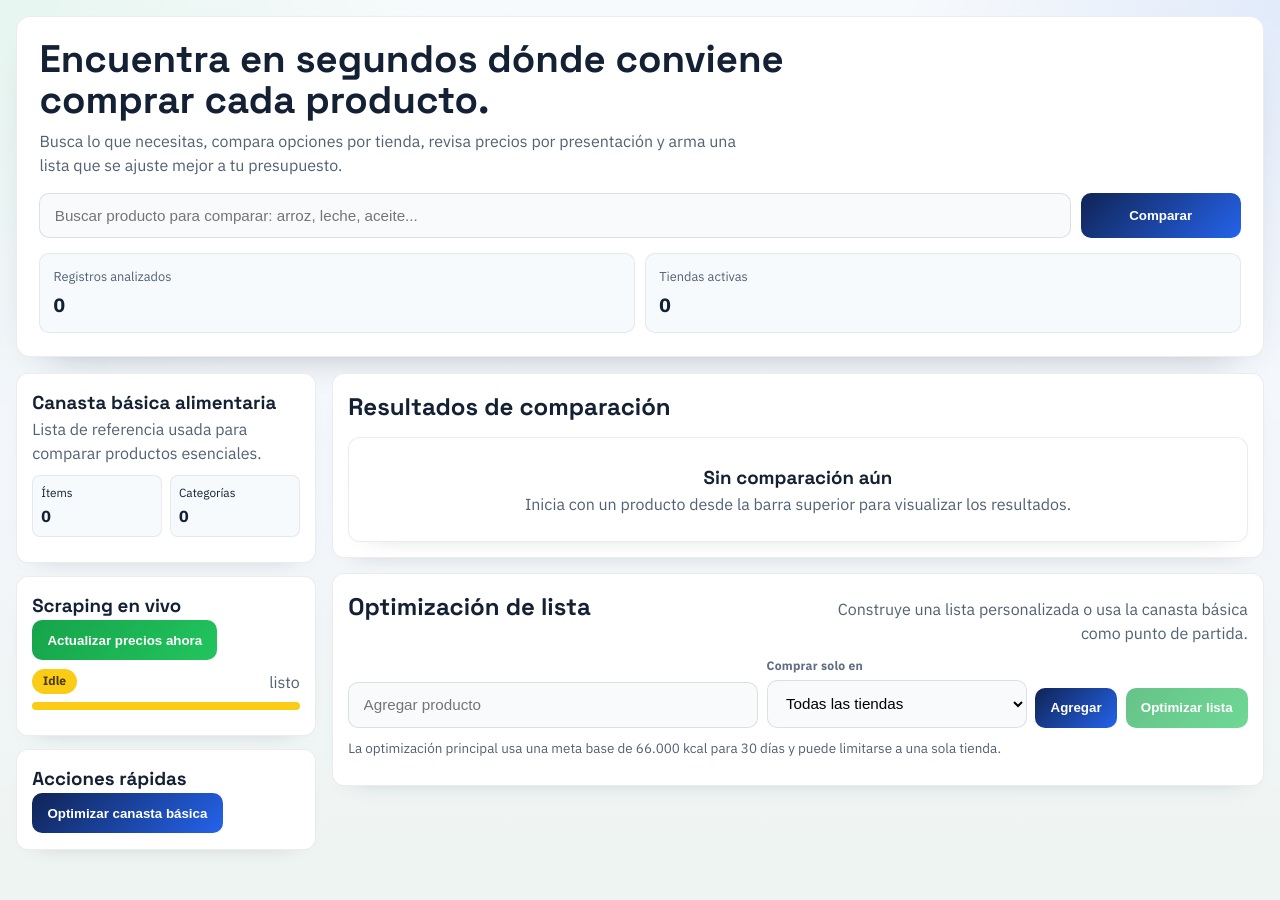
Scenario: Products page optimizer › envía la tienda restringida y guarda el snapshot al optimizar una lista personalizada
In the field with placeholder "Agregar producto": coordinates (553, 705) [348, 682, 758, 728], type "arroz"
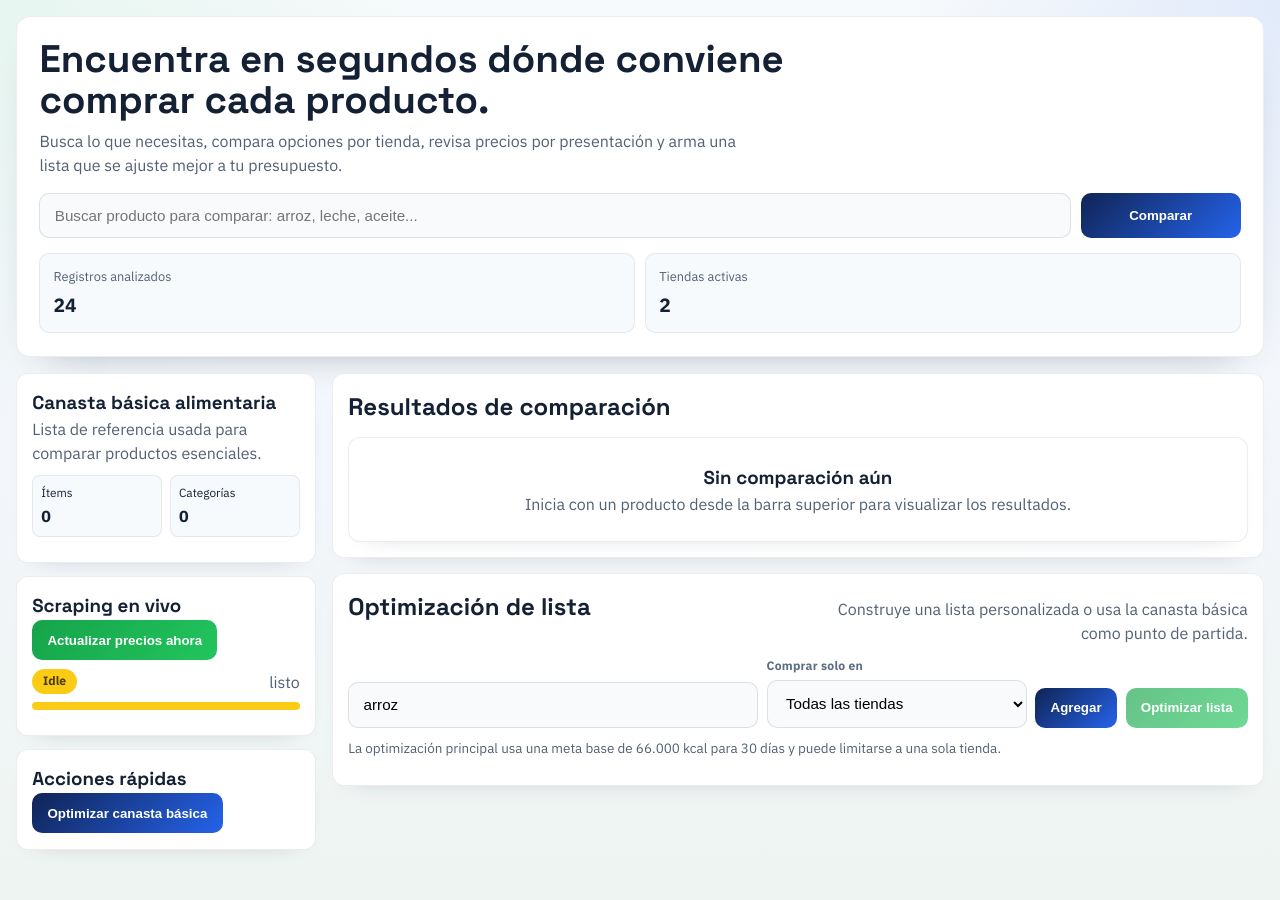
Click the button "Agregar": coordinates (1076, 708) [1035, 688, 1117, 728]
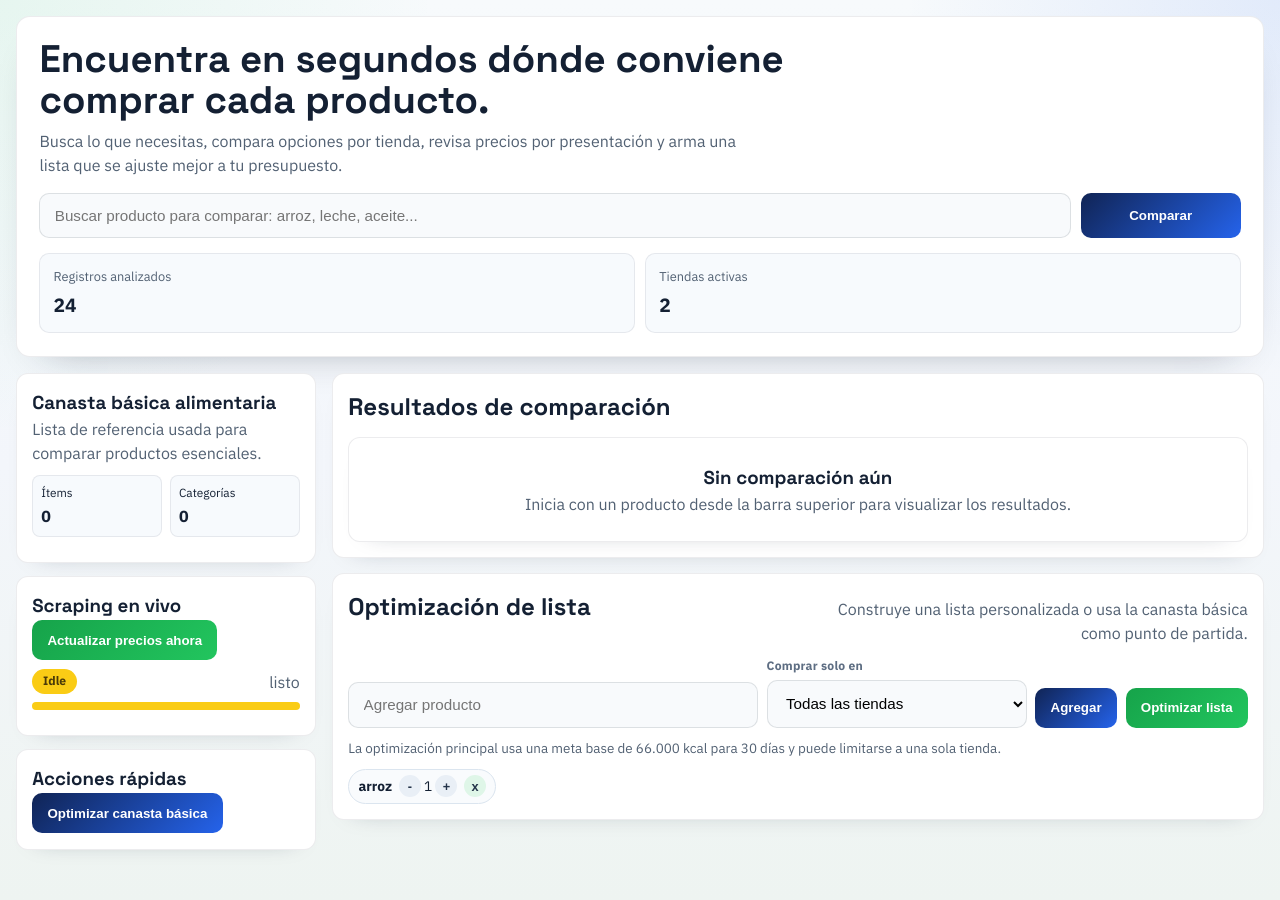
Select "Olimpica" in the dropdown labelled "Comprar solo en": coordinates (896, 704) [766, 680, 1026, 728]
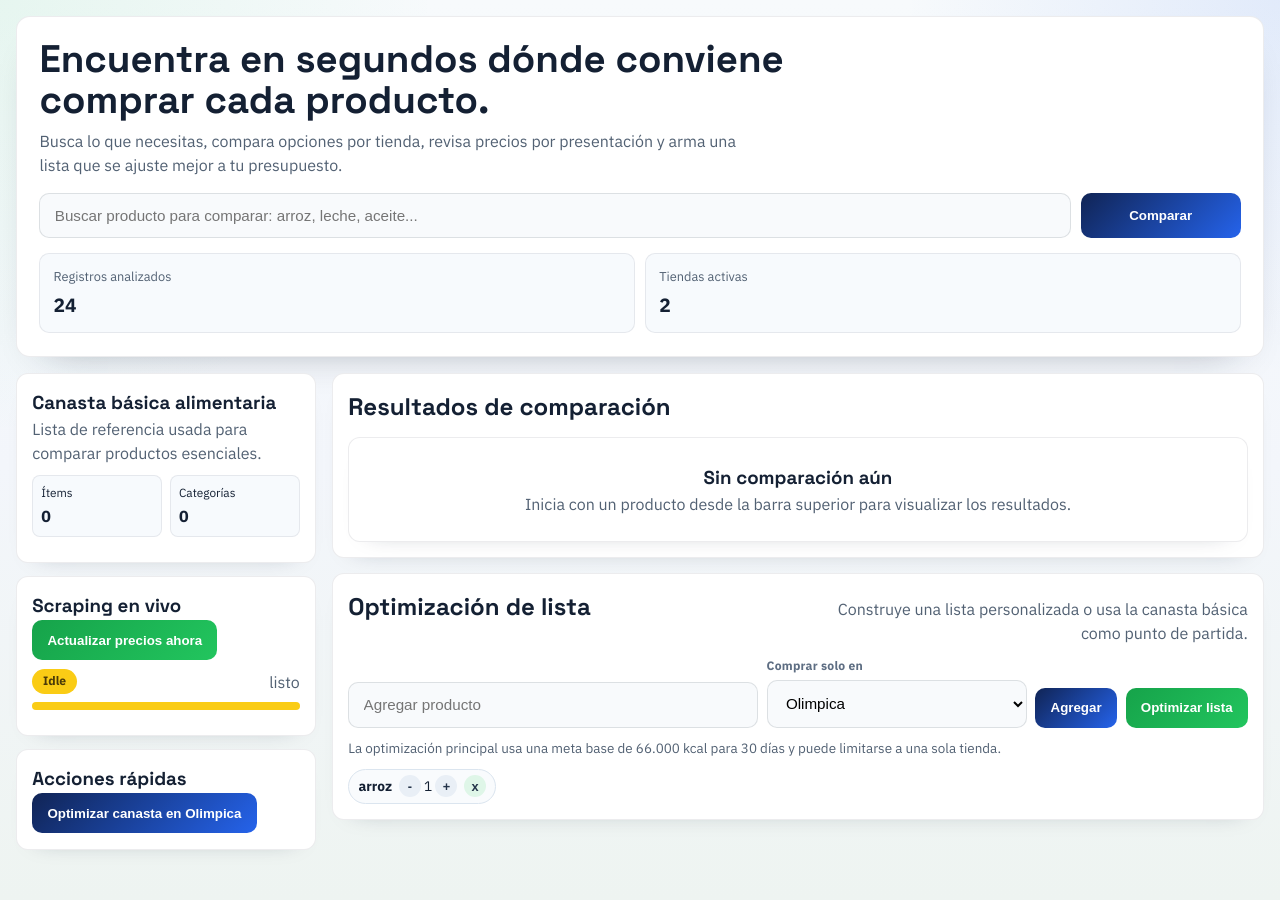
Click the button "Optimizar lista": coordinates (1187, 708) [1126, 688, 1248, 728]
(page scrolled)
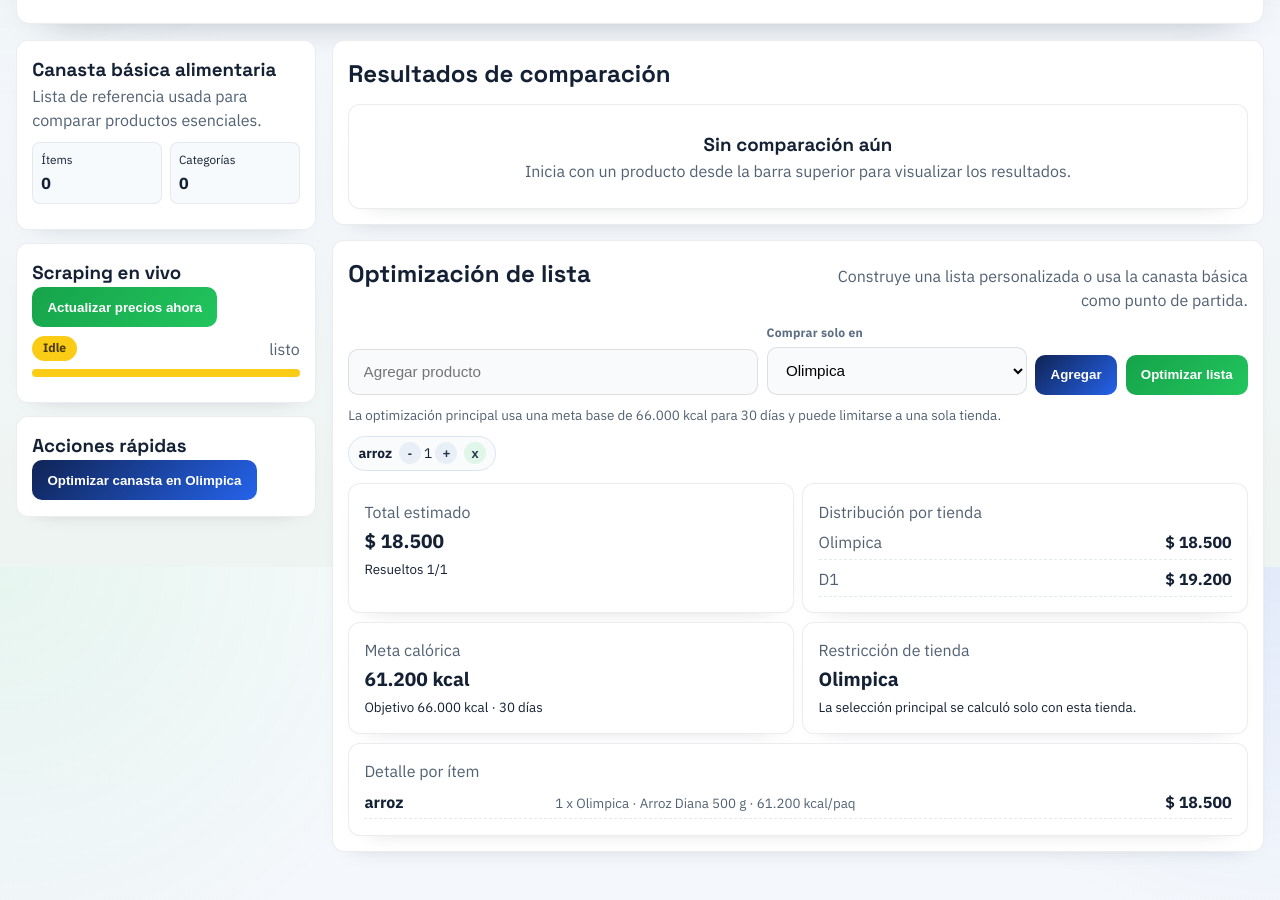
Expected: the text "Restricción de tienda" is shown, [819, 640, 970, 660]
Expected: the text "La selección principal se calculó solo con esta tienda." is shown, [819, 698, 1136, 716]
